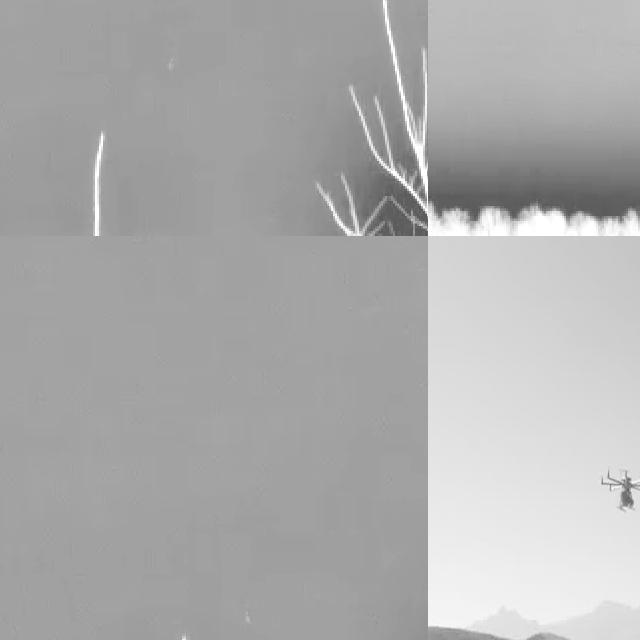0: (157, 54, 179, 84), (236, 606, 256, 636)
drone: (599, 461, 640, 518)
